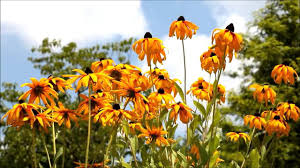flower: (11, 19, 294, 166)
